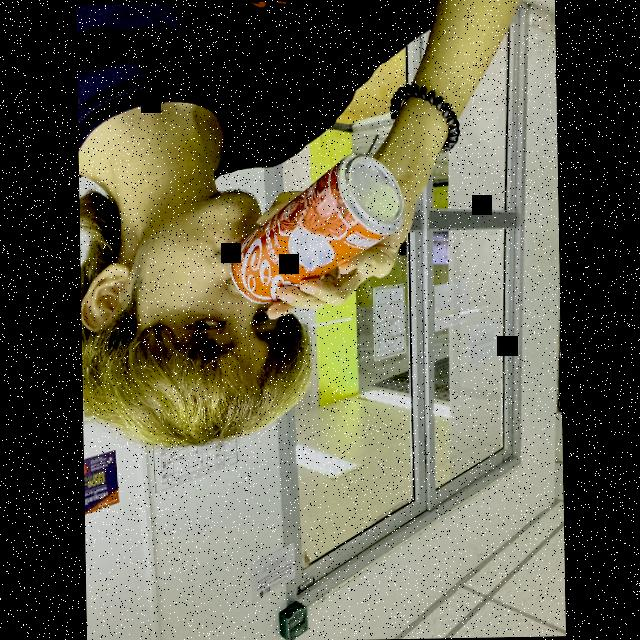can: (226, 152, 405, 306)
